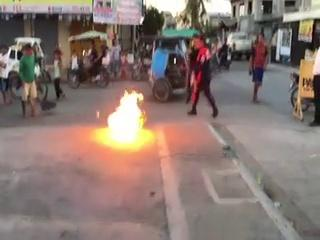Fire: (104, 87, 153, 146)
